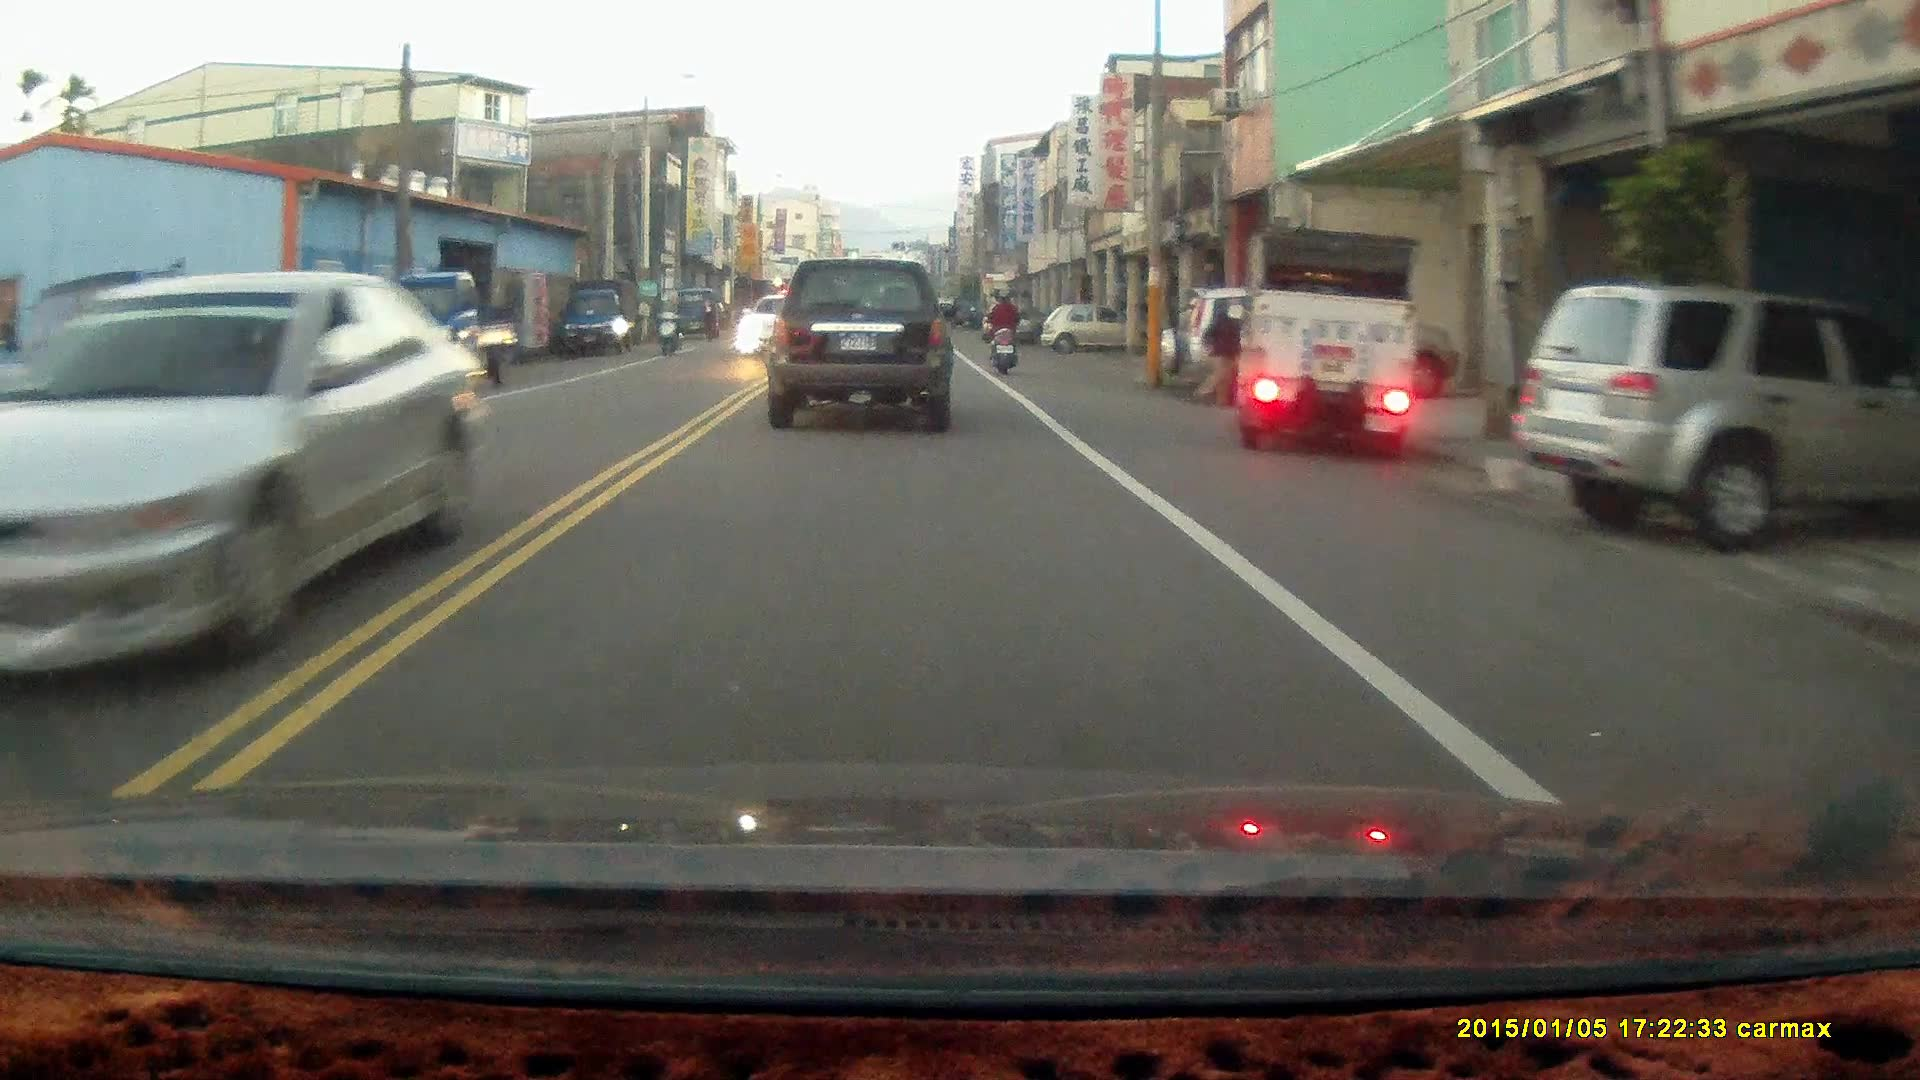pedestrian: (1195, 296, 1239, 407), (698, 293, 718, 342)
rider: (984, 281, 1020, 373), (653, 281, 686, 354)
vehicle: (1, 267, 483, 705), (1525, 280, 1920, 537), (1225, 224, 1422, 455), (1156, 277, 1467, 411), (767, 252, 957, 428), (351, 270, 520, 403), (560, 276, 643, 356), (1046, 304, 1125, 356)
